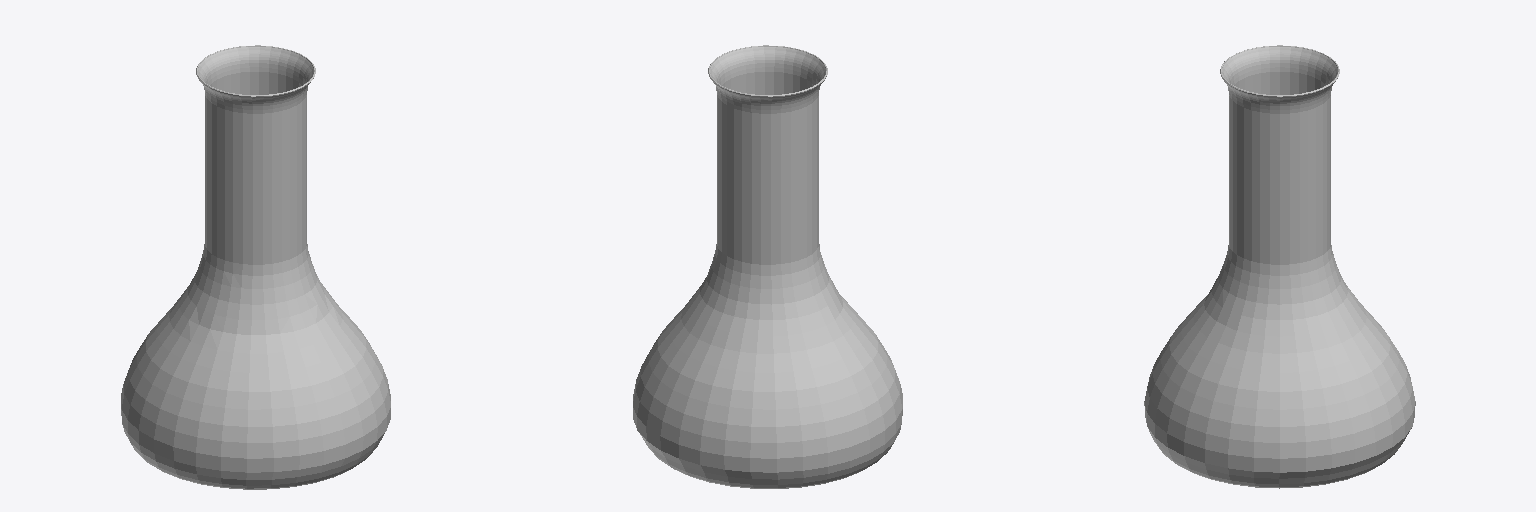
File: simple_vase_01.obj
3 views of the same model, side by side, from view 1: azimuth 30°, elevation 25°; view 2: azimuth 150°, elevation 25°; view 3: azimuth 270°, elevation 25° (orthographic).
Parts seen in each view (by area): view 1: Simple_Vase_Circle; view 2: Simple_Vase_Circle; view 3: Simple_Vase_Circle.
Part boxes in pixels (x1,y1,x2,y2): Simple_Vase_Circle: (121,45,390,489); Simple_Vase_Circle: (633,45,902,488); Simple_Vase_Circle: (1144,45,1415,488).
Size of the model in its own units: 3.26 by 4.91 by 3.26.